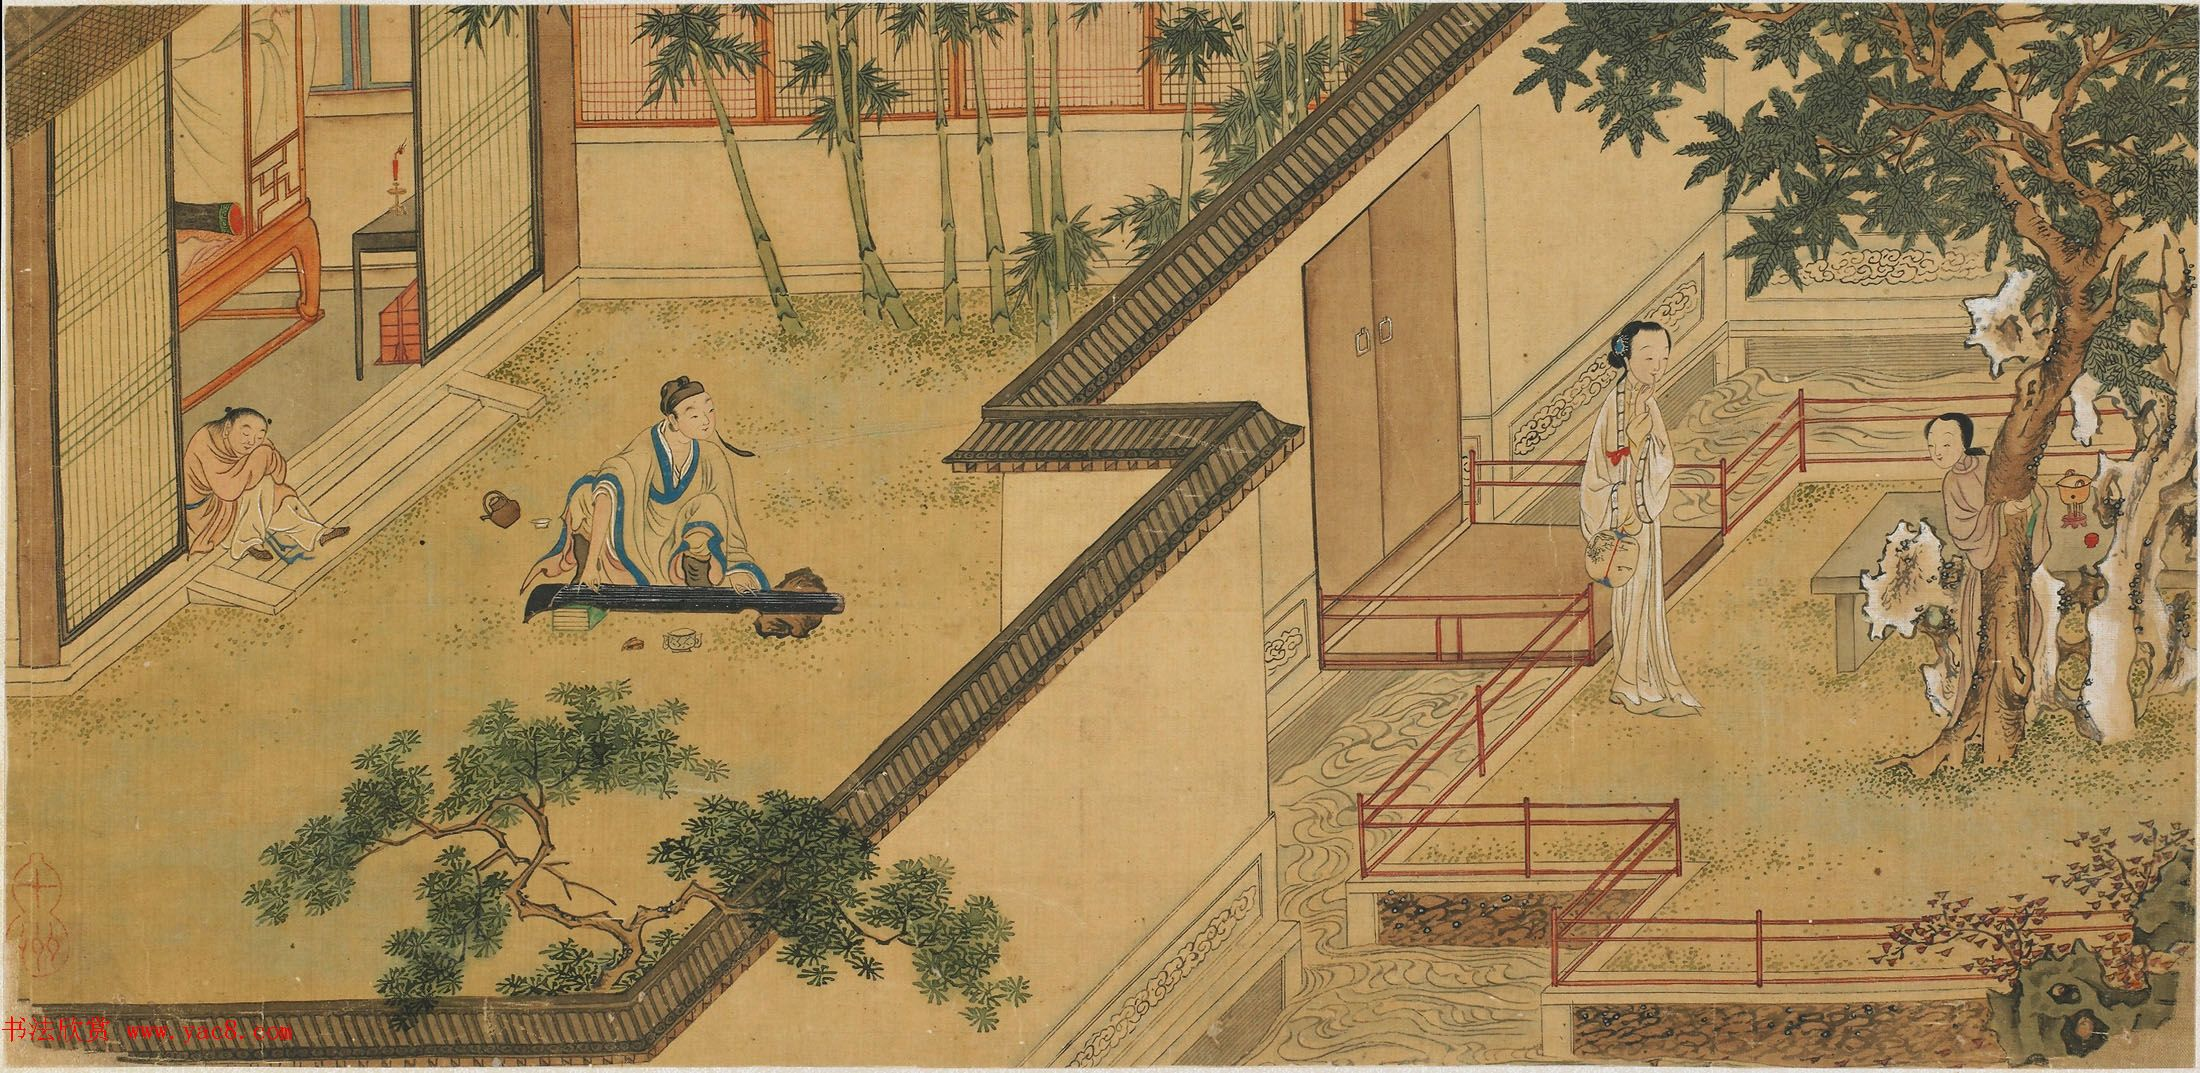bamboo: (682, 1, 779, 326), (814, 12, 897, 323), (1154, 77, 1305, 213), (1021, 2, 1078, 348), (957, 7, 1009, 315), (924, 2, 962, 321), (1178, 15, 1433, 53)
decoration: (378, 146, 414, 210), (2059, 469, 2082, 535), (479, 496, 530, 524)
fan: (1587, 527, 1646, 583)
flower: (1924, 908, 2052, 999), (2078, 837, 2194, 916)
guqin: (528, 578, 838, 634)
house: (5, 23, 179, 666), (181, 26, 333, 391), (427, 5, 581, 340)
kid: (182, 418, 336, 561), (1930, 420, 1994, 554)
man: (586, 393, 740, 602)
table: (1844, 488, 1924, 669)
tree: (1555, 5, 2200, 270), (297, 797, 655, 997), (694, 818, 1019, 1015), (446, 697, 673, 799), (1989, 404, 2038, 761), (2032, 250, 2101, 421), (1874, 729, 1998, 793)
wall: (987, 407, 1270, 1053), (1289, 88, 1500, 746), (67, 1007, 641, 1073), (1108, 296, 1273, 413)
woman: (1597, 335, 1700, 715)
